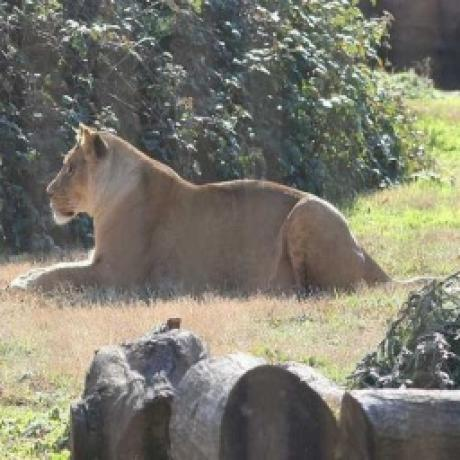Lion: (22, 116, 394, 297)
